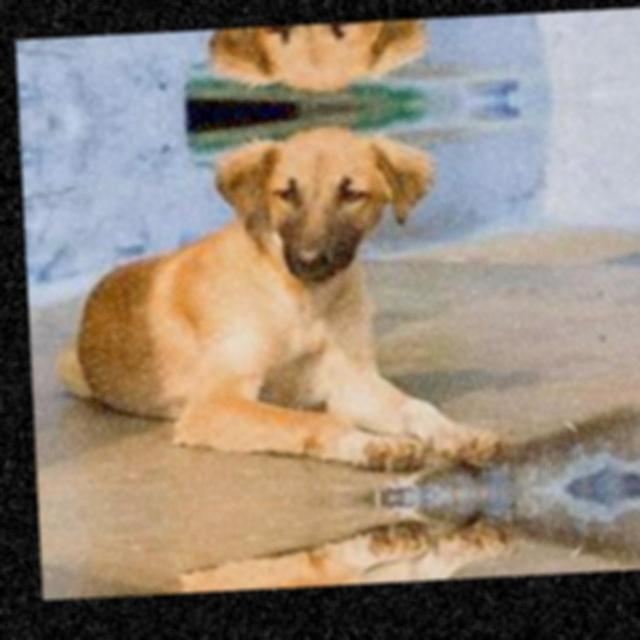dog: (62, 108, 515, 498), (58, 15, 497, 114), (82, 508, 520, 598)
